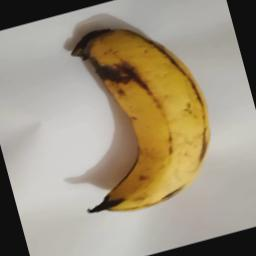Banana Unripe: (46, 6, 232, 224)
